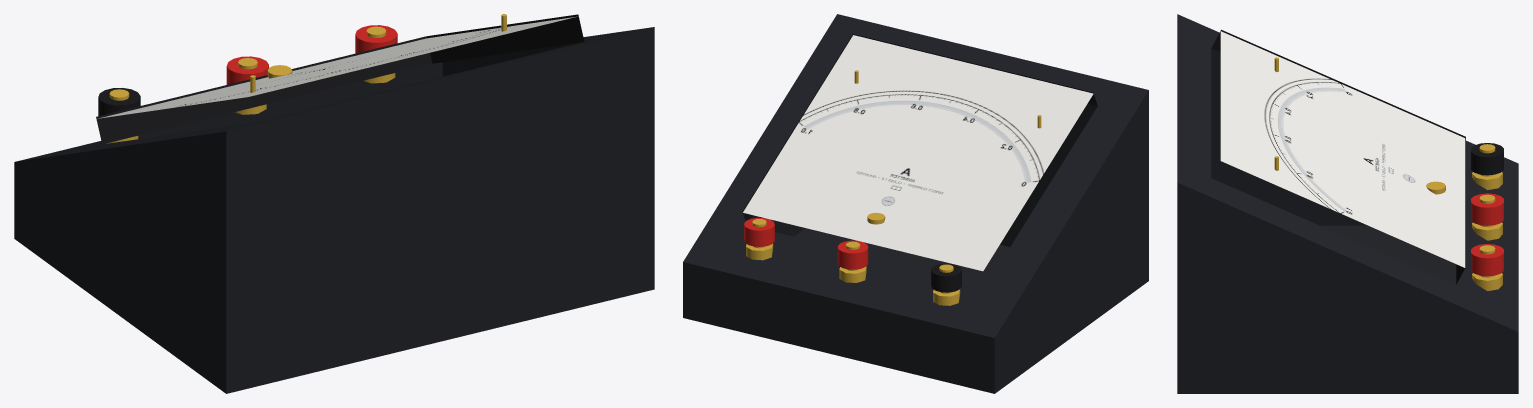
Rendered from Ammeter_Lab_Pro.obj.
The picture shows the model from 3 angles, left to right: view 1: azimuth 30°, elevation 25°; view 2: azimuth 150°, elevation 25°; view 3: azimuth 270°, elevation 25°; orthographic projection. The views are drawn at different scales.
Bounding box in the file's own units: 0.14 × 0.0864 × 0.12.
